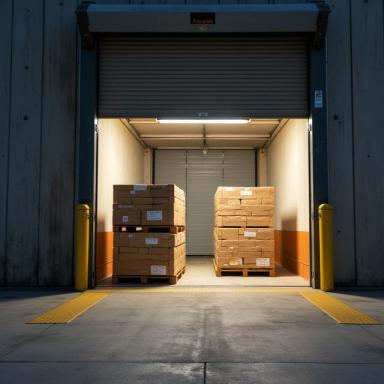pallet: (111, 266, 185, 284), (212, 259, 275, 277), (113, 225, 185, 234)
